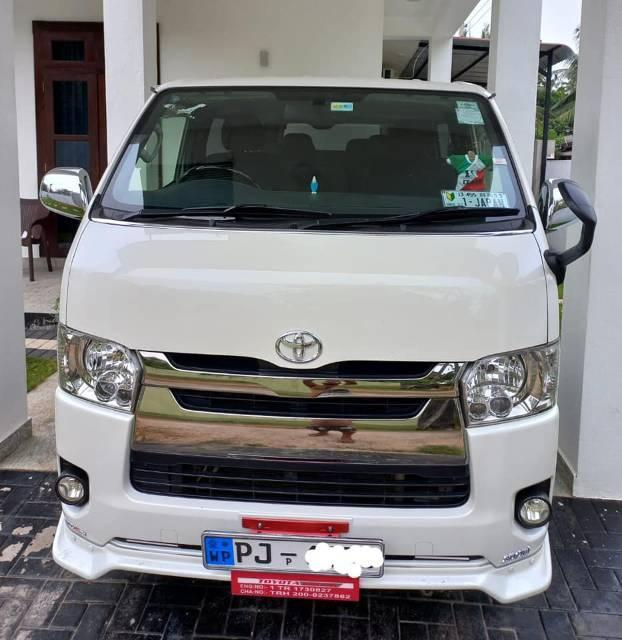car: (43, 71, 591, 617)
